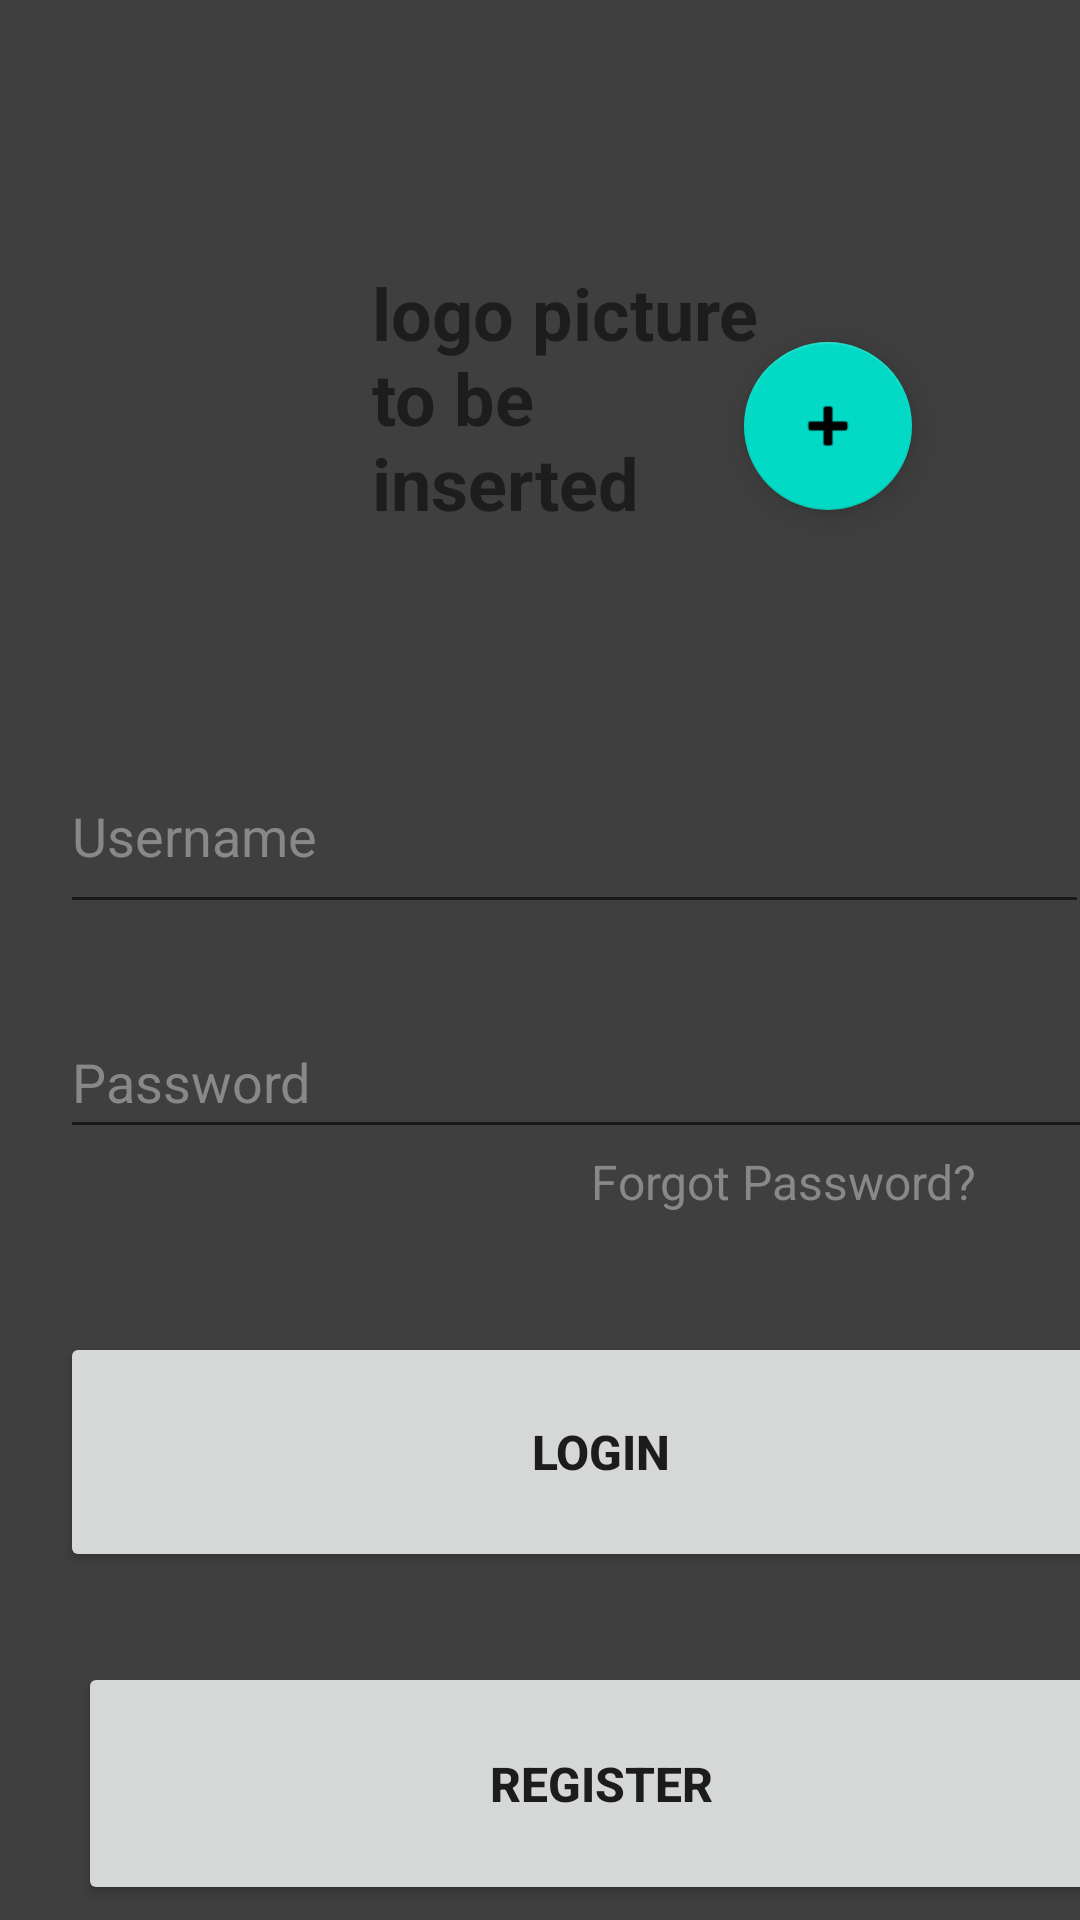

Point at icon controls on the screen. Image size 1080*1920, points as (x=x, y=y).
add: (x=828, y=426)
